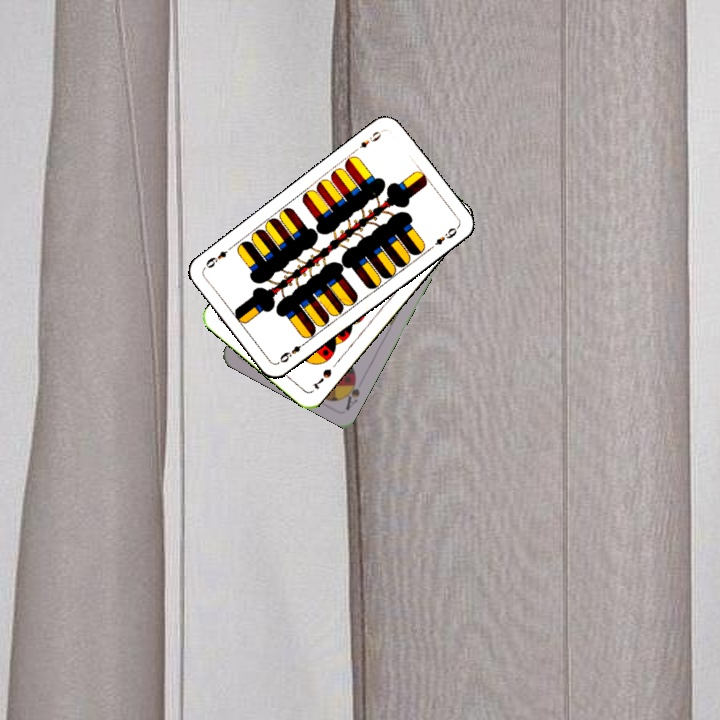E9: (350, 126, 385, 155), (276, 337, 310, 365)
S7: (309, 365, 334, 392)
SA: (339, 371, 362, 413)
